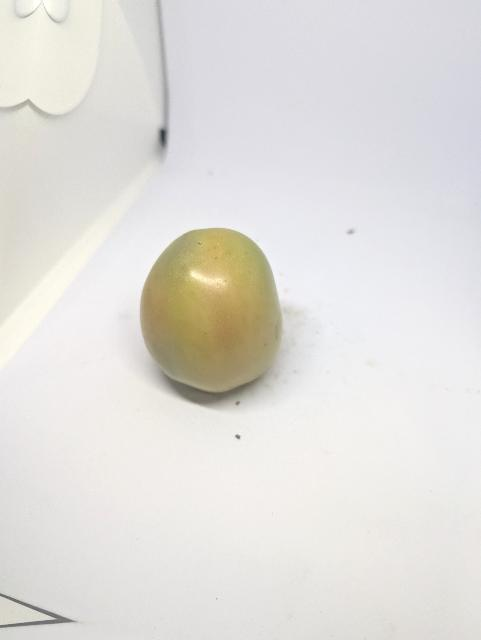breaker: (137, 224, 287, 395)
